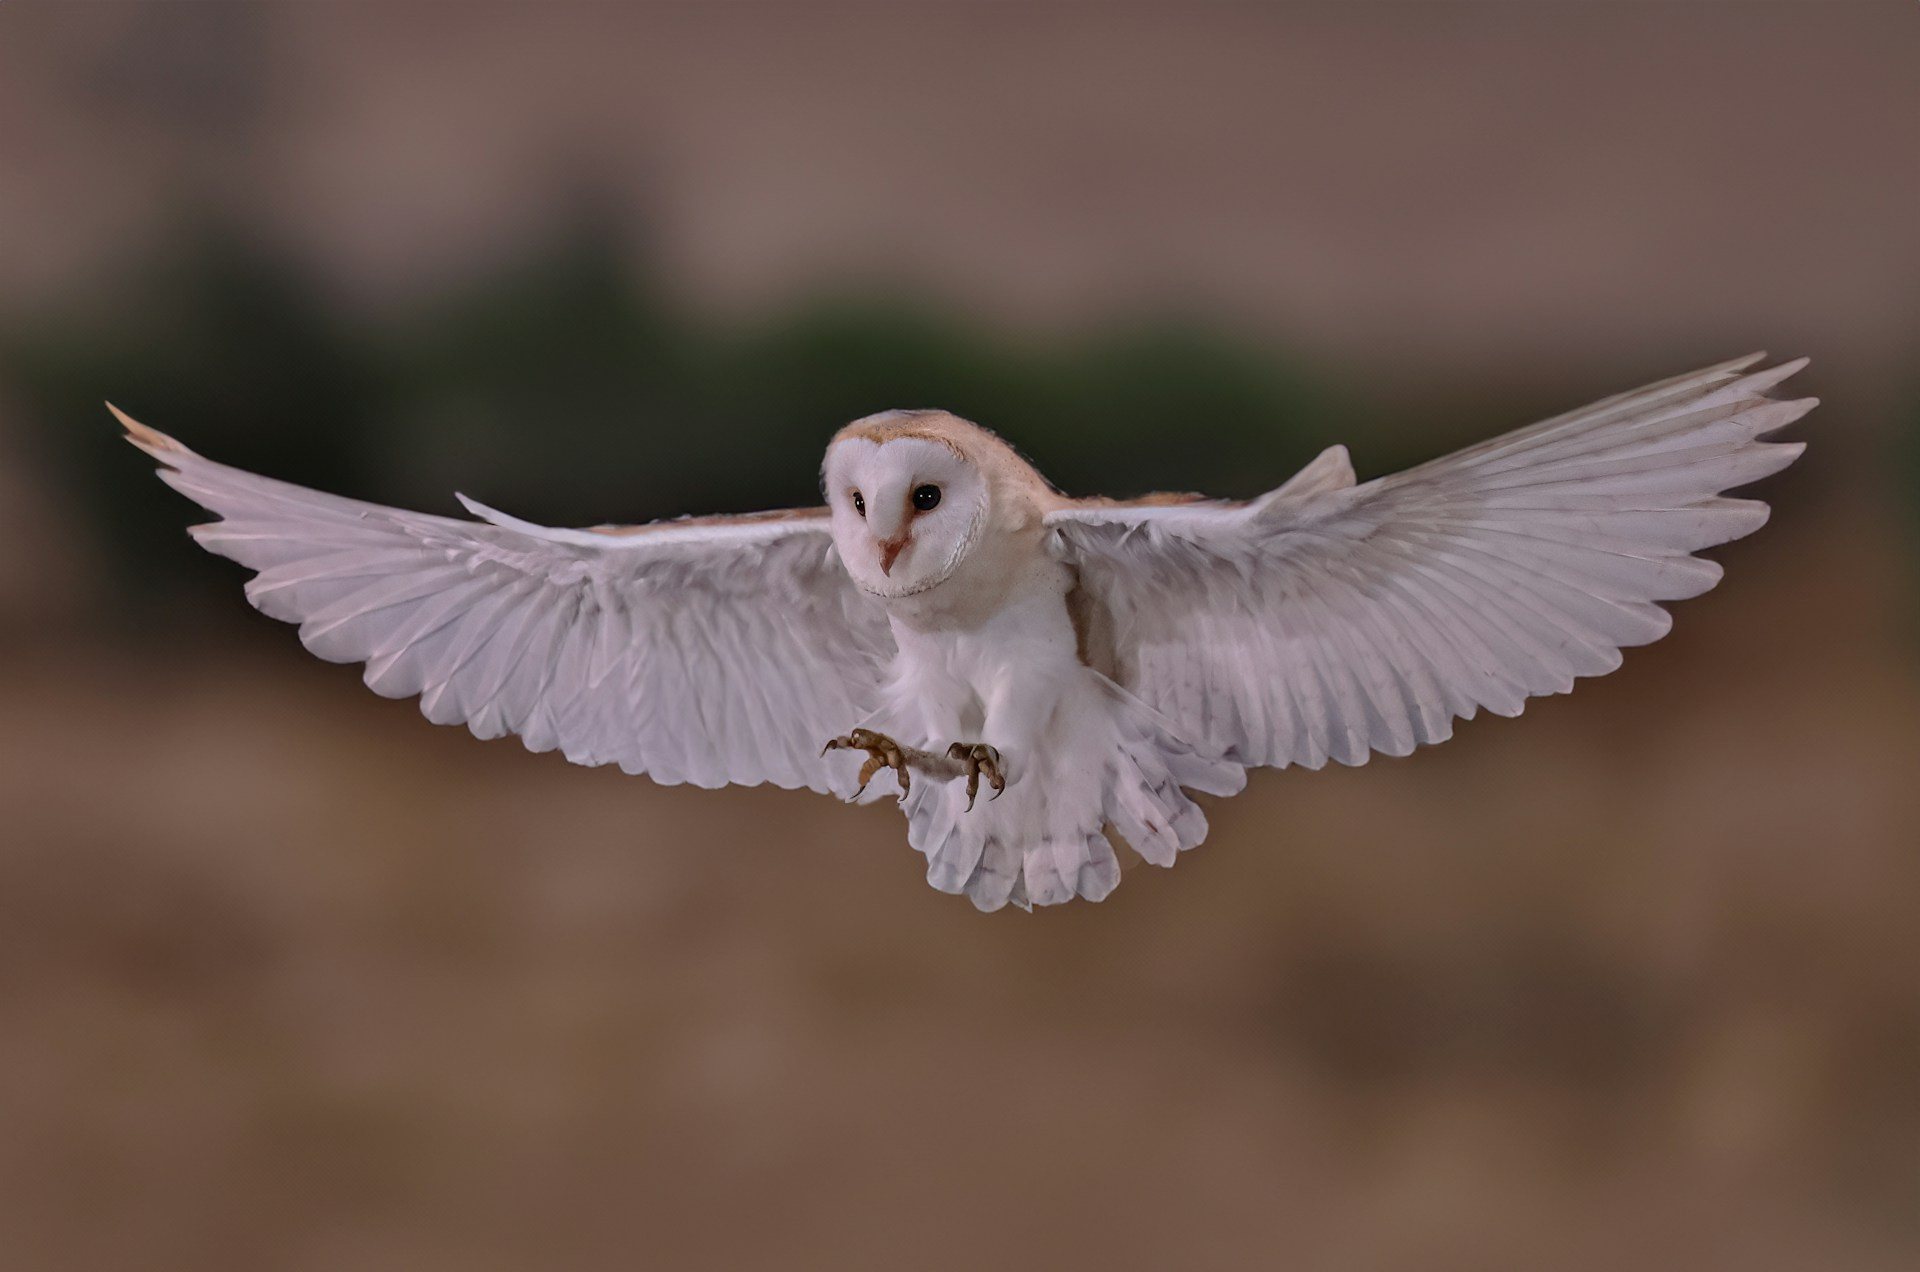owl: (72, 346, 1831, 920)
